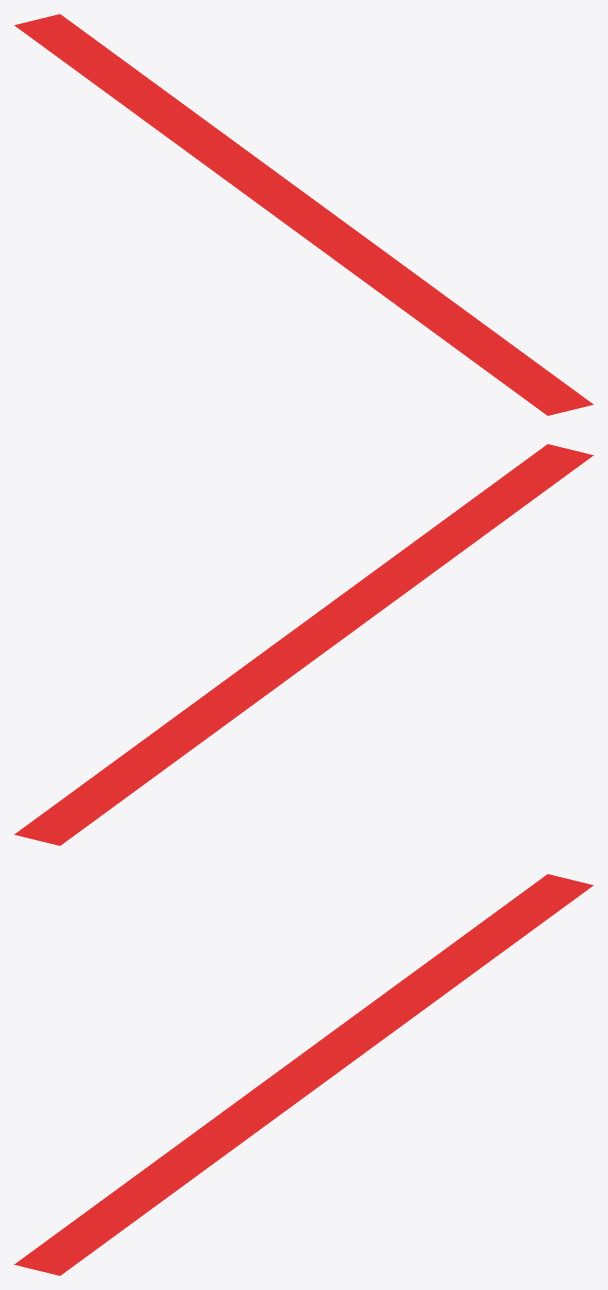
Rendered from 紅實線.FBX.
3 views of the same model, one above another, from view 1: azimuth 30°, elevation 25°; view 2: azimuth 150°, elevation 25°; view 3: azimuth 330°, elevation 25° (orthographic).
Parts seen in each view (by area): view 1: Plane001; view 2: Plane001; view 3: Plane001.
Part boxes in pixels (left/top/right/bottom): Plane001: left=14, top=14, right=593, bottom=415; Plane001: left=14, top=444, right=593, bottom=845; Plane001: left=14, top=874, right=593, bottom=1275.
Size of the model in its own units: 10 by 1.22e-14 by 200.
